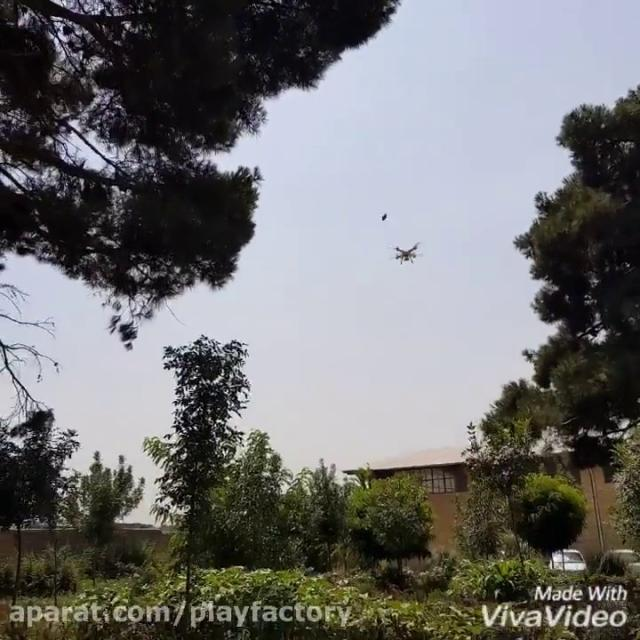drone: (386, 234, 426, 270)
